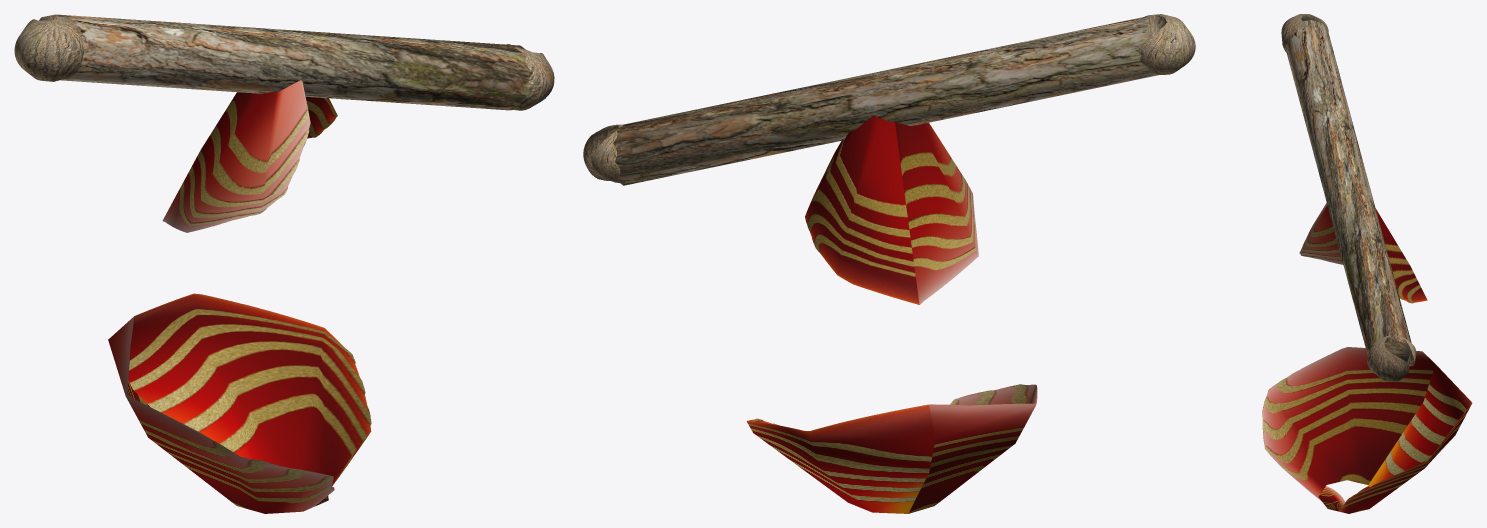
The model's file is fruit.fbx.
The picture shows the model from 3 angles, left to right: view 1: azimuth 30°, elevation 25°; view 2: azimuth 150°, elevation 25°; view 3: azimuth 270°, elevation 25°; orthographic projection. The views are drawn at different scales.
Parts seen in each view (by area): view 1: pCylinder1, pCylinder3; view 2: pCylinder1, pCylinder3; view 3: pCylinder1, pCylinder3.
Part boxes in pixels (x1,y1,x2,y2): pCylinder1: (108,80,371,513); pCylinder3: (14,14,554,110); pCylinder1: (746,115,1037,513); pCylinder3: (583,14,1195,185); pCylinder1: (1262,203,1472,513); pCylinder3: (1281,14,1416,381).
Size of the model in its own units: 10.35 by 9.46 by 5.4.
Materials: 2 (2 with a texture image).
